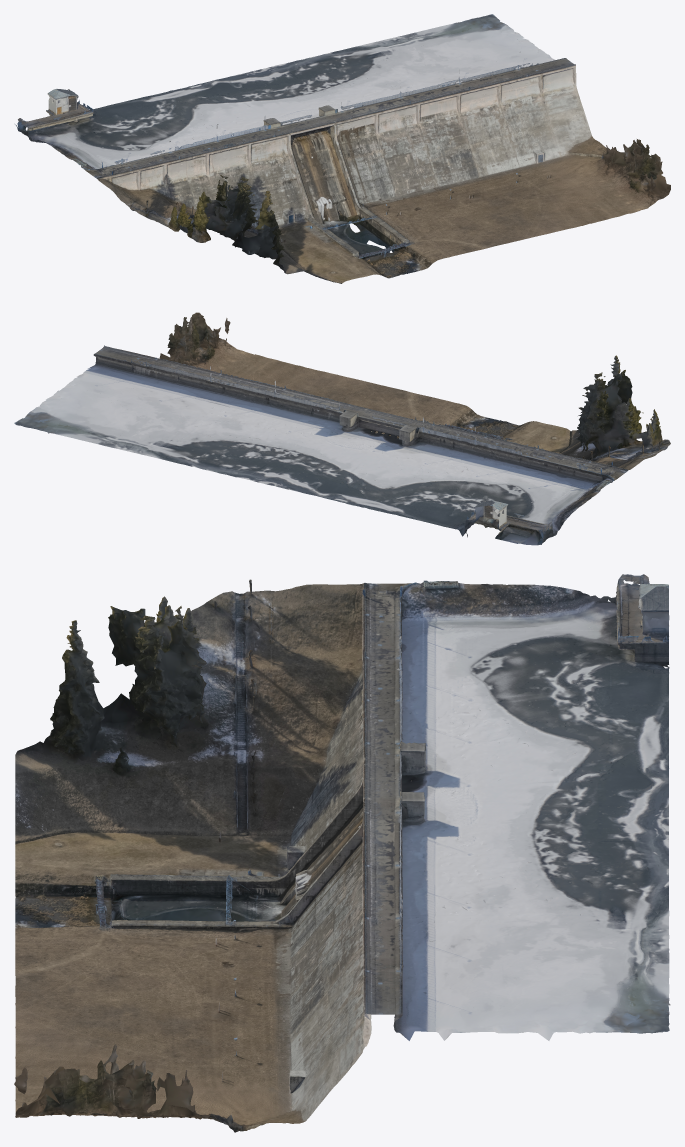
The model's file is dam_during_winter.glb.
3 views of the same model, one above another, from view 1: azimuth 30°, elevation 25°; view 2: azimuth 150°, elevation 25°; view 3: azimuth 270°, elevation 25° (orthographic). The views are drawn at different scales.
Parts seen in each view (by area): view 1: DAM; view 2: DAM; view 3: DAM.
Part boxes in pixels (box(x1,y1,x2,y2)): DAM: box(15, 14, 670, 283); DAM: box(14, 312, 670, 545); DAM: box(14, 574, 670, 1132).
Size of the model in its own units: 4.77 by 1.08 by 3.08.
4 materials, 4 textured.
